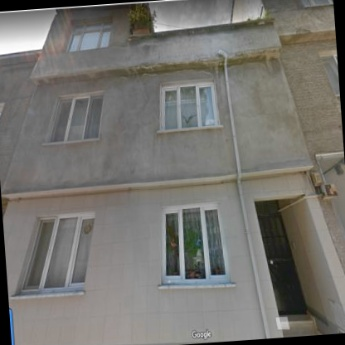door: (259, 213, 307, 316)
